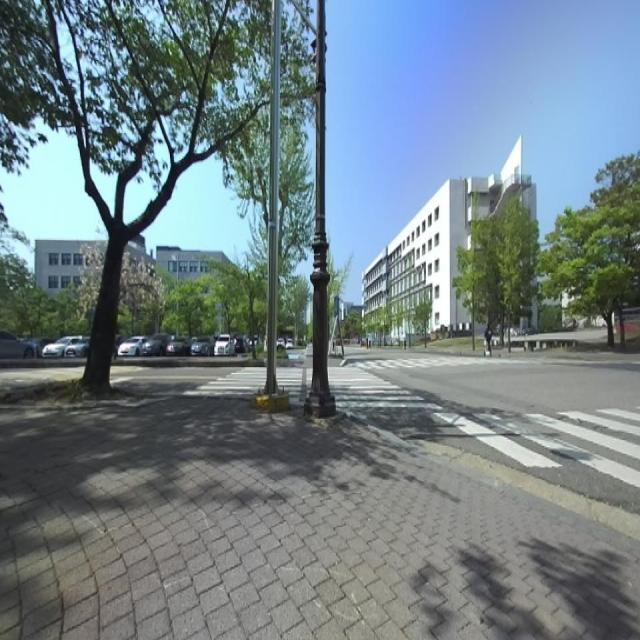sidewalk: (0, 378, 640, 639)
